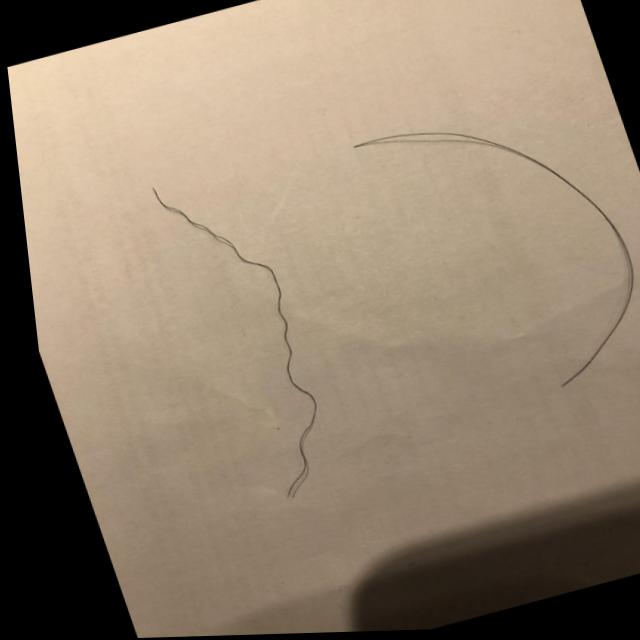hair: (346, 124, 640, 401), (133, 172, 321, 503)
